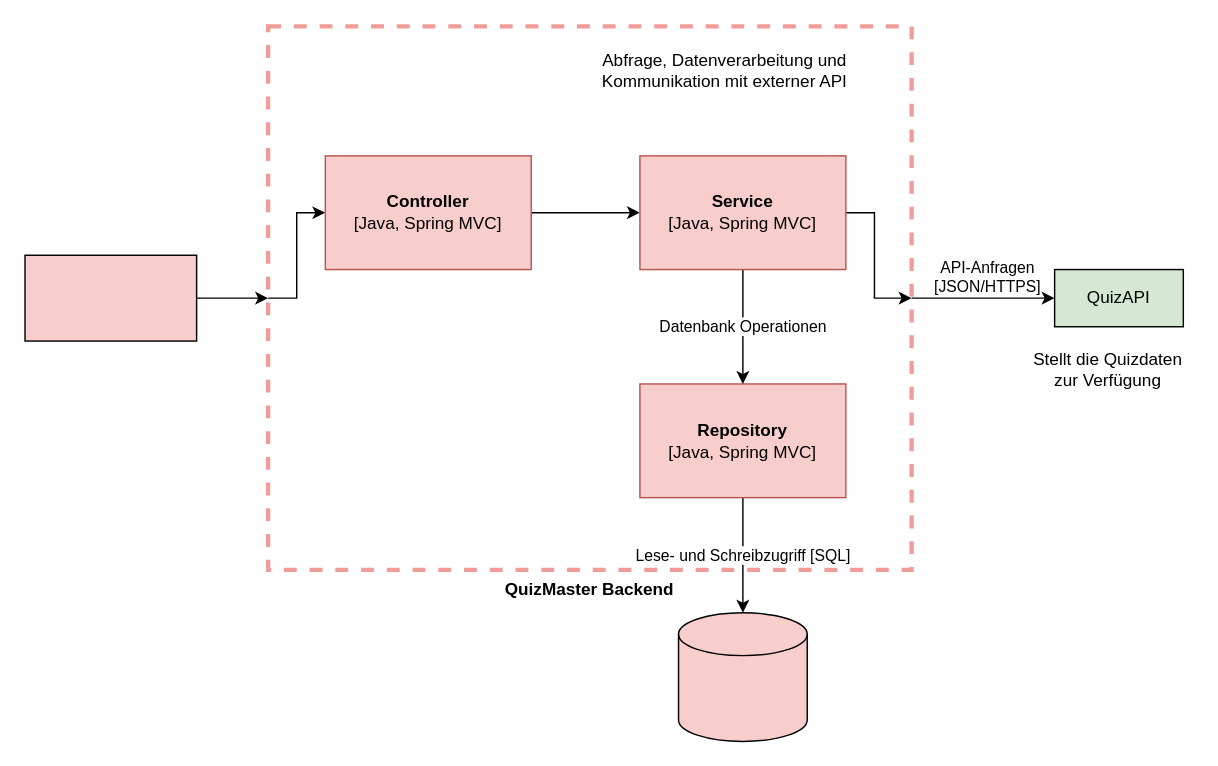
Image size: 1218x766. Some labels were removed from this diagram. The centre of each missing label's shape, as x and y in pixels:
Datenbank [PostgreSQL]: (x=742, y=676)
Frontend [Typescript, Angular]: (x=110, y=297)
